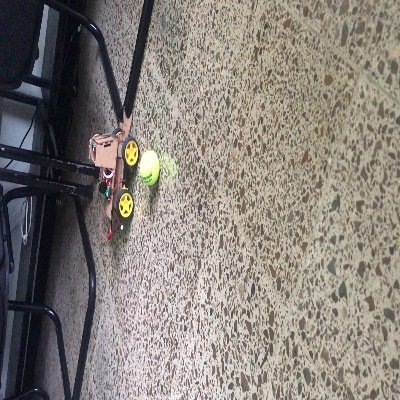Ball: (137, 151, 159, 185)
Robot: (88, 111, 139, 222)
